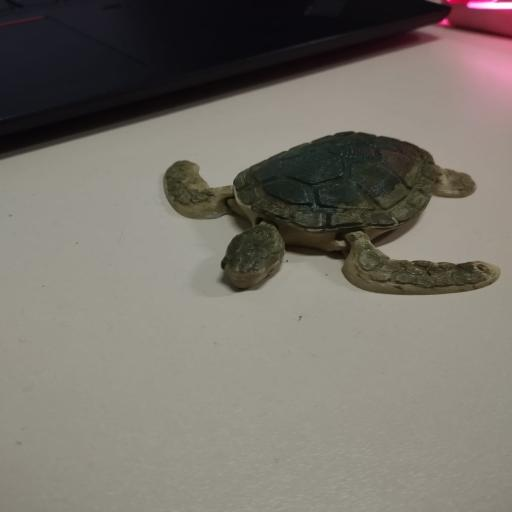Tugarin-modelo1: (164, 132, 498, 294)
